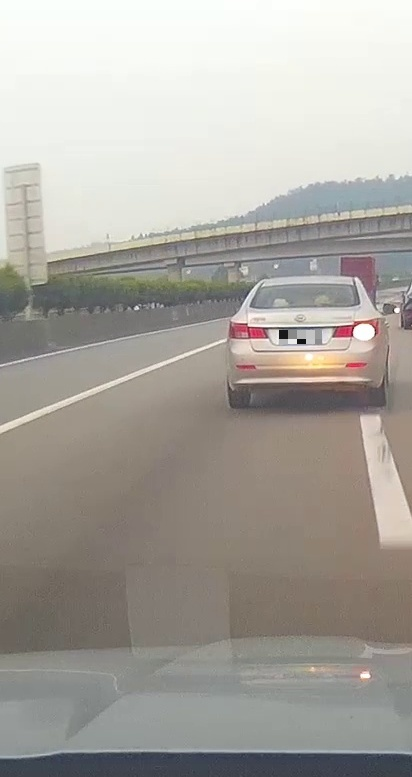L_light: (228, 321, 268, 339)
R_light: (332, 318, 379, 338)
T_light: (295, 282, 319, 286)
day-right: (225, 276, 386, 408)
plate_1: (279, 330, 322, 344)
